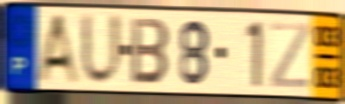1: (244, 19, 264, 90)
8: (177, 17, 211, 88)
A: (34, 11, 85, 88)
B: (129, 15, 173, 87)
U: (78, 10, 125, 90)
Z: (269, 20, 312, 91)
